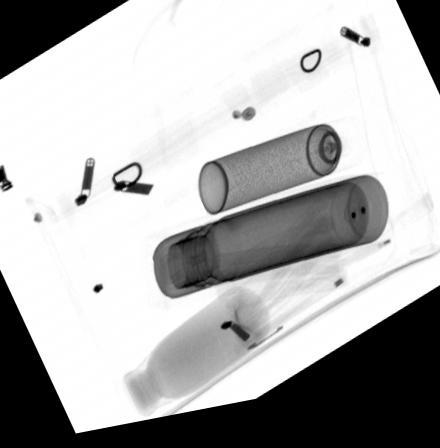Sprayer: (195, 127, 379, 223)
